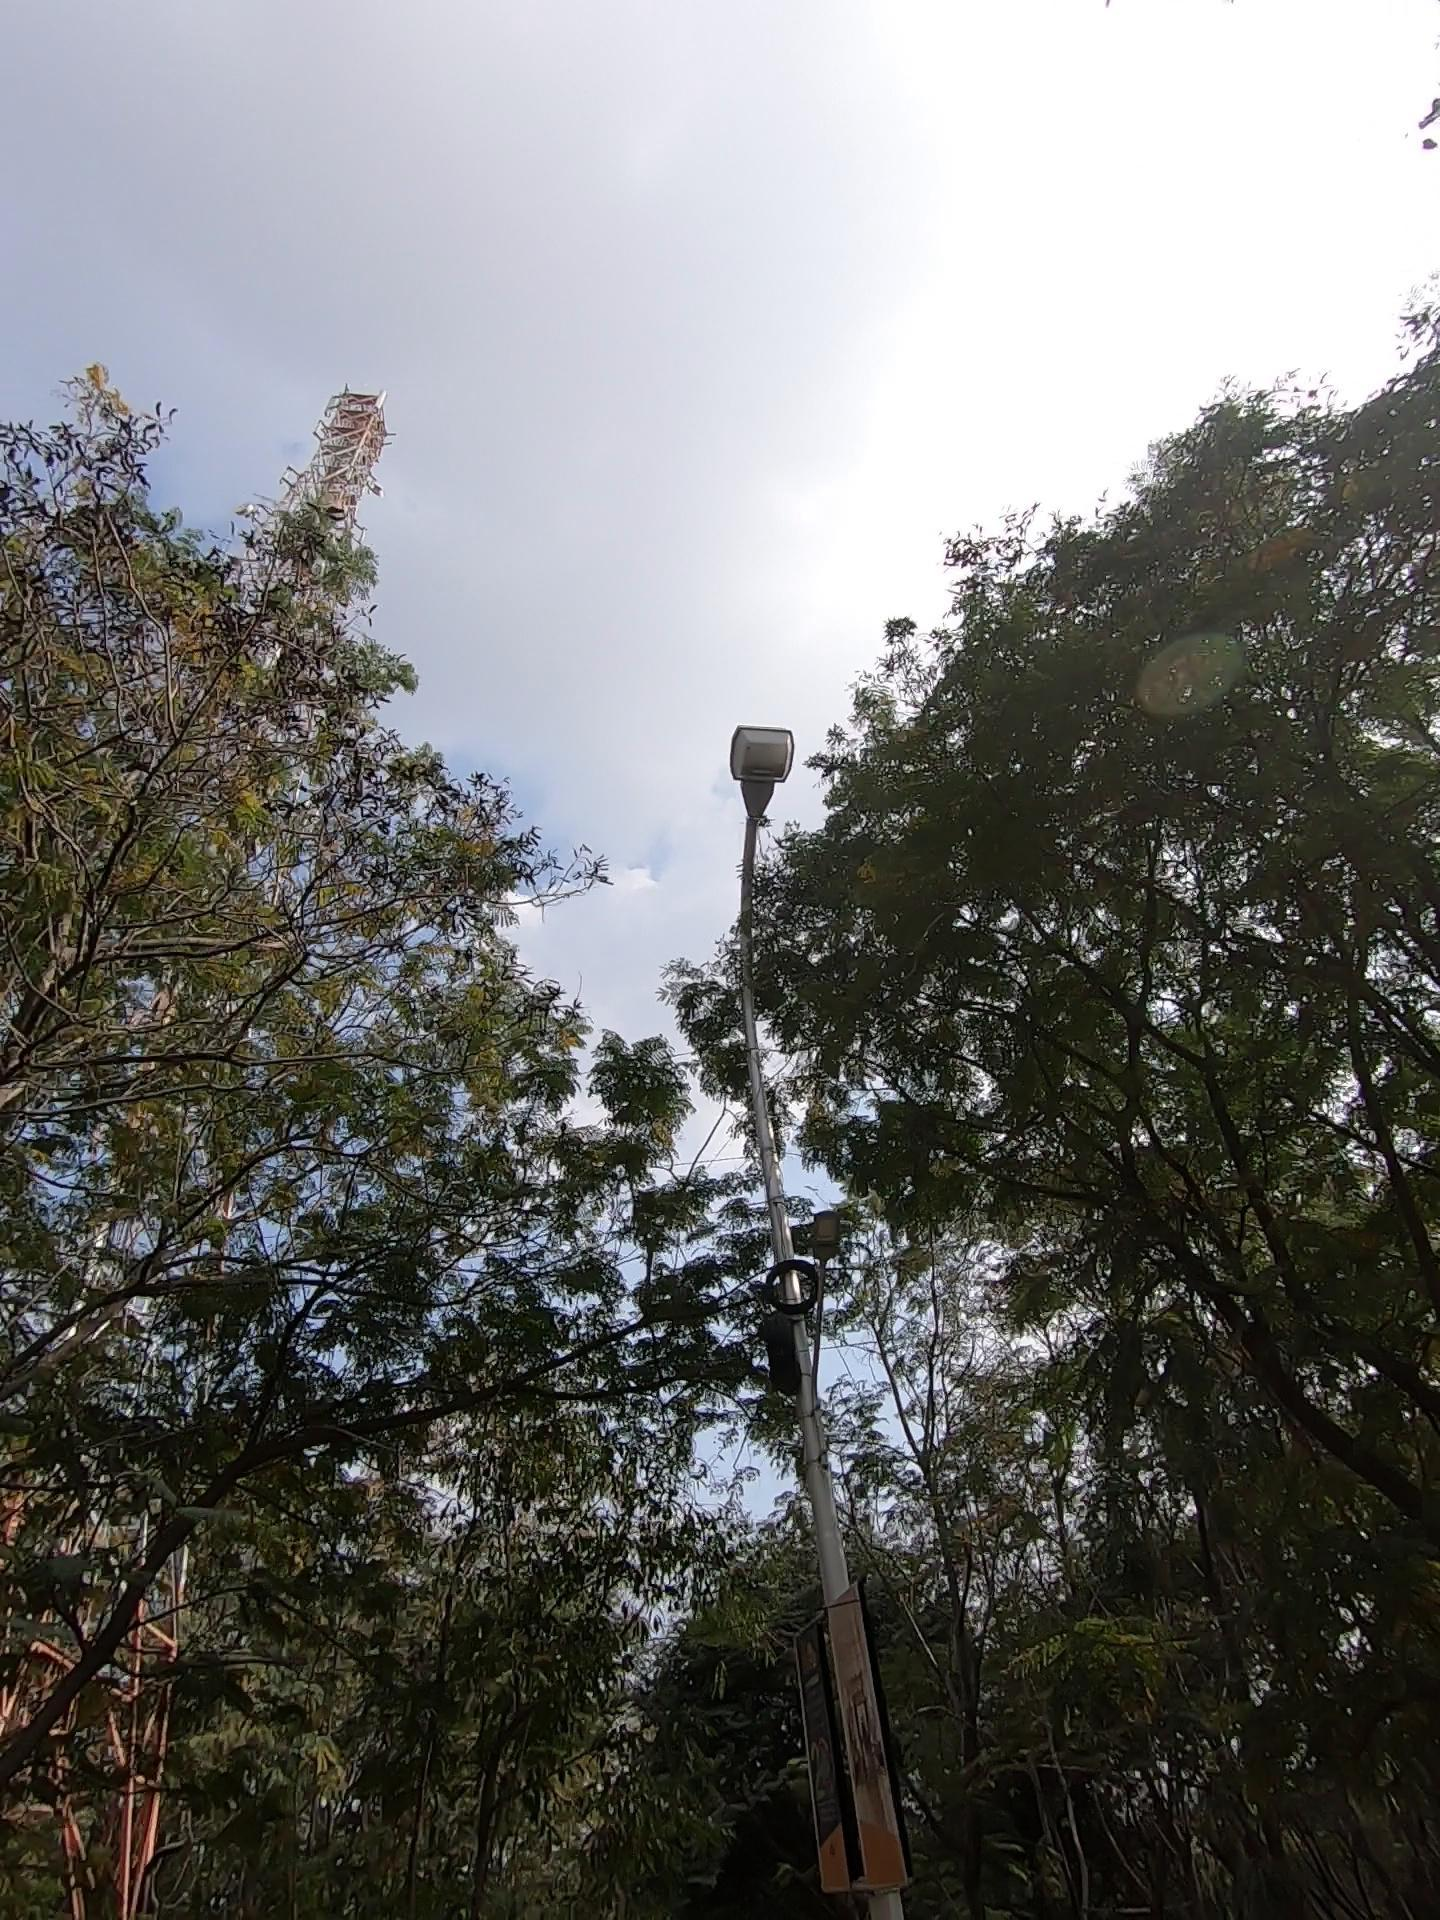off: (629, 676, 847, 1120)
